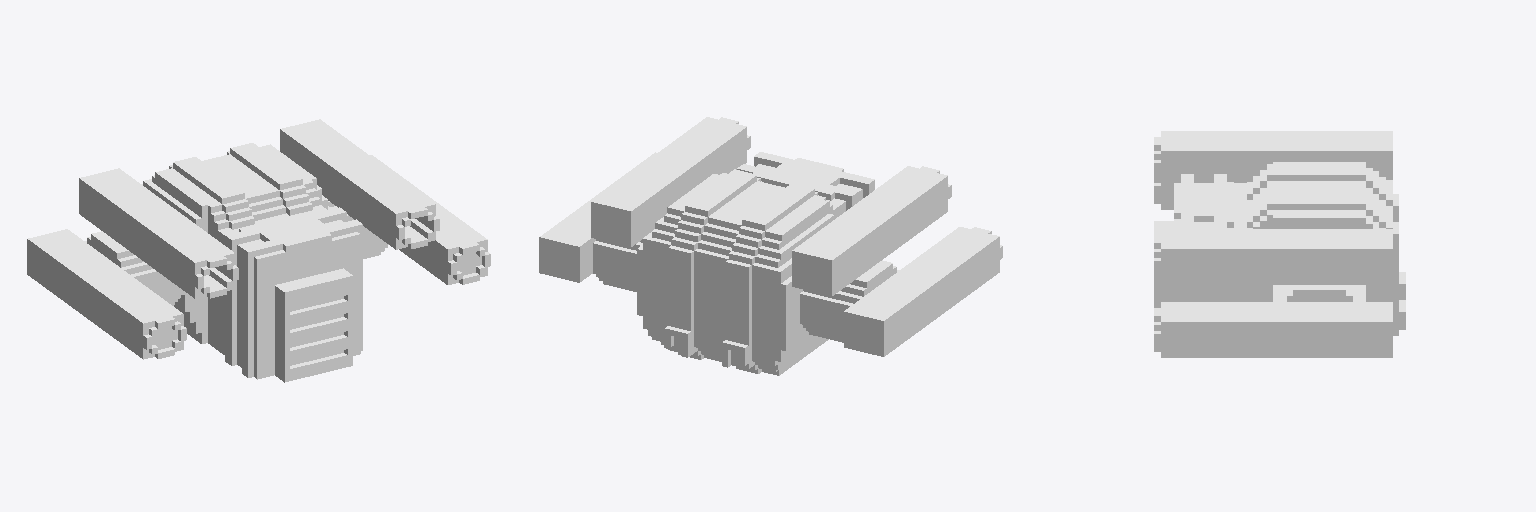
Rendered from Rockets.obj.
3 views of the same model, side by side, from view 1: azimuth 30°, elevation 25°; view 2: azimuth 150°, elevation 25°; view 3: azimuth 270°, elevation 25° (orthographic).
Size of the model in its own units: 60 by 24 by 38.